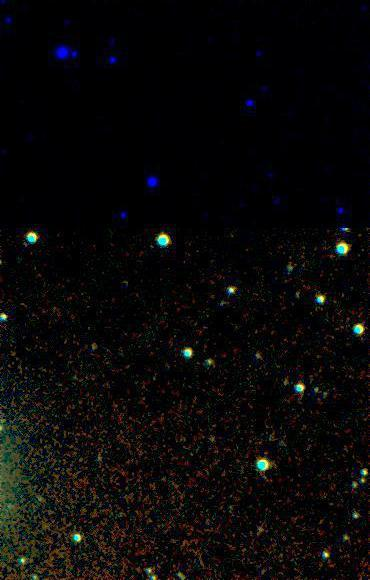star: (29, 512, 59, 542)
